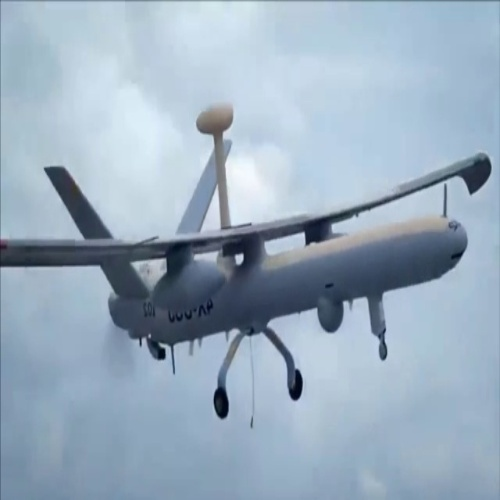uav779: (4, 105, 490, 417)
